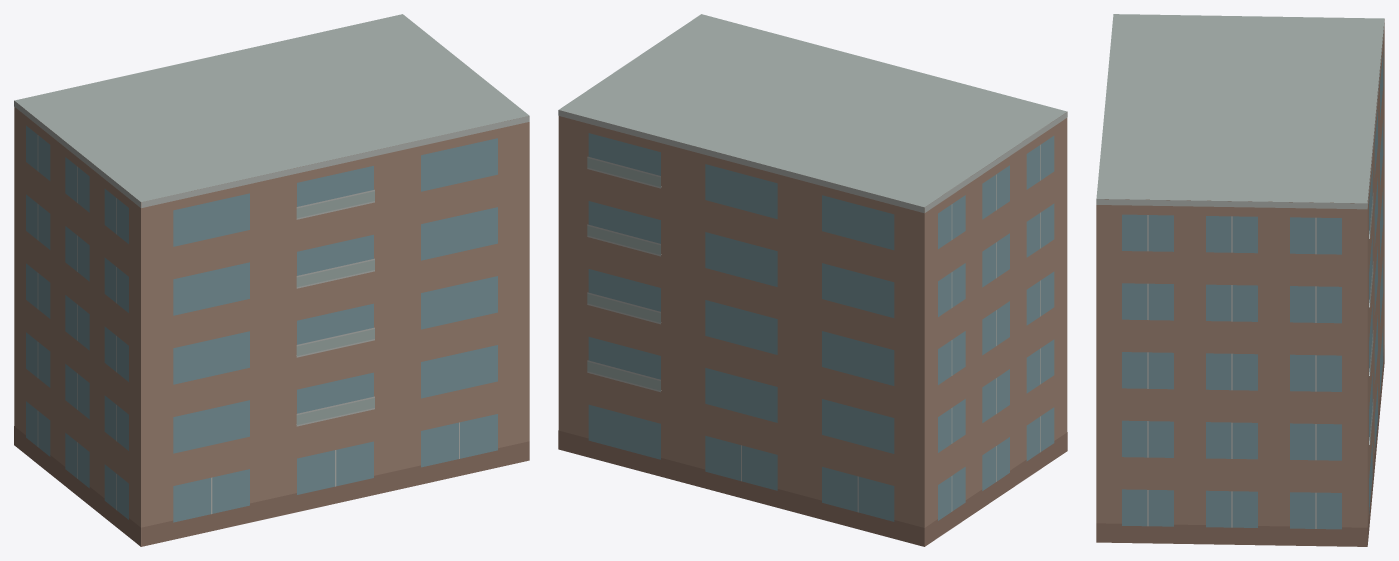
File: survey-upis-32625846.glb
3 views of the same model, side by side, from view 1: azimuth 30°, elevation 25°; view 2: azimuth 150°, elevation 25°; view 3: azimuth 270°, elevation 25° (orthographic).
Visible parts, largest first — view 1: survey-upis-32625846.tmp; view 2: survey-upis-32625846.tmp; view 3: survey-upis-32625846.tmp.
Boxes of the visible parts, bbox=[...] form: survey-upis-32625846.tmp: bbox=[14, 14, 529, 546]; survey-upis-32625846.tmp: bbox=[558, 14, 1067, 546]; survey-upis-32625846.tmp: bbox=[1096, 14, 1384, 546].
Size of the model in its own units: 16.56 by 14 by 10.65.
